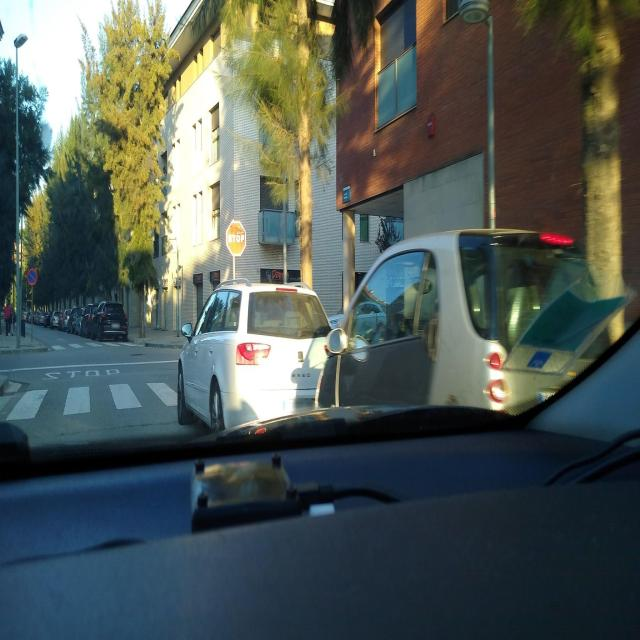forb_stopping: (26, 268, 38, 286)
